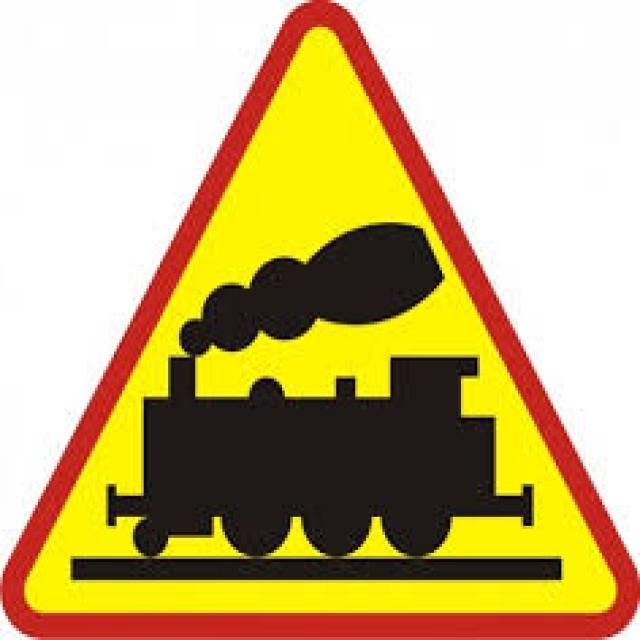unguarded level crossing: (23, 22, 623, 625)
